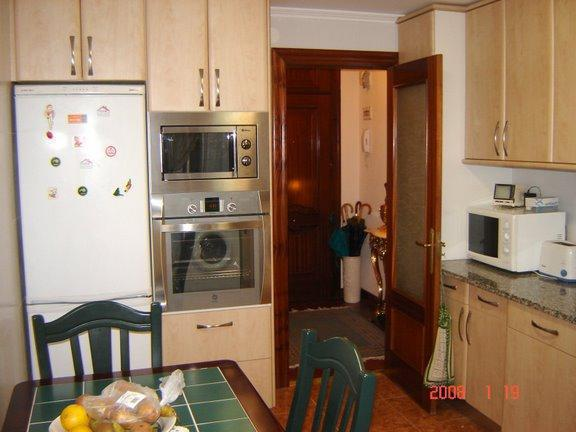Electrodomestico: (14, 87, 156, 360), (150, 113, 270, 306)
Puerta: (391, 63, 441, 404)
